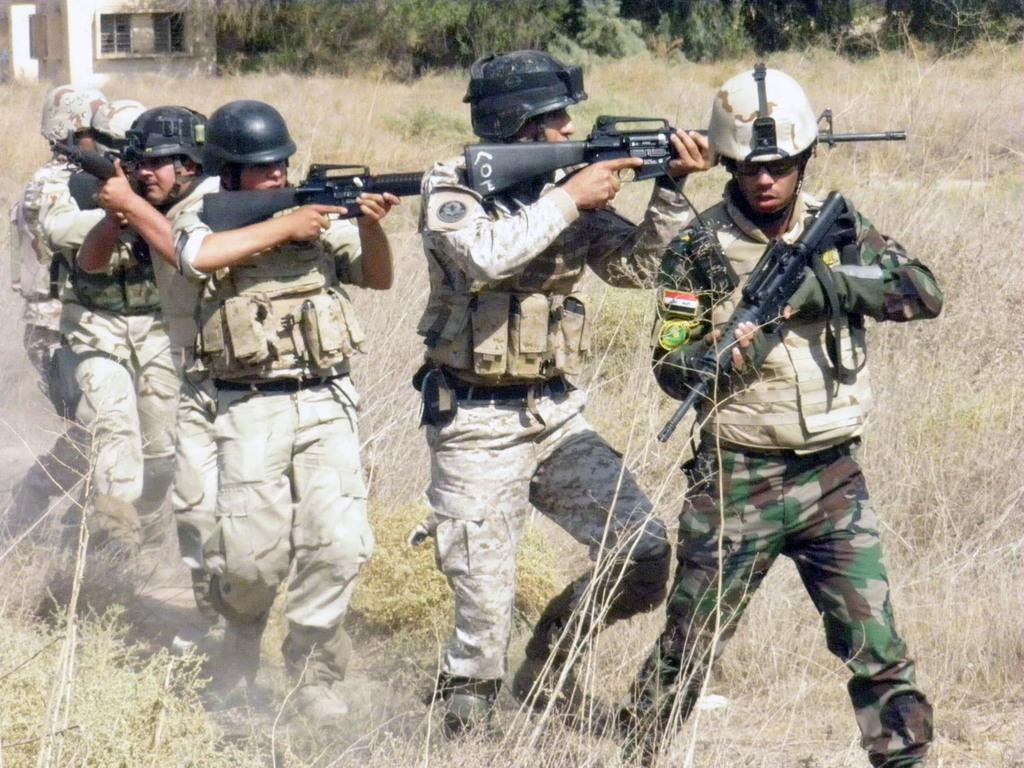Rifle: (657, 190, 862, 445), (465, 115, 906, 210), (203, 163, 427, 233), (47, 126, 151, 265)
